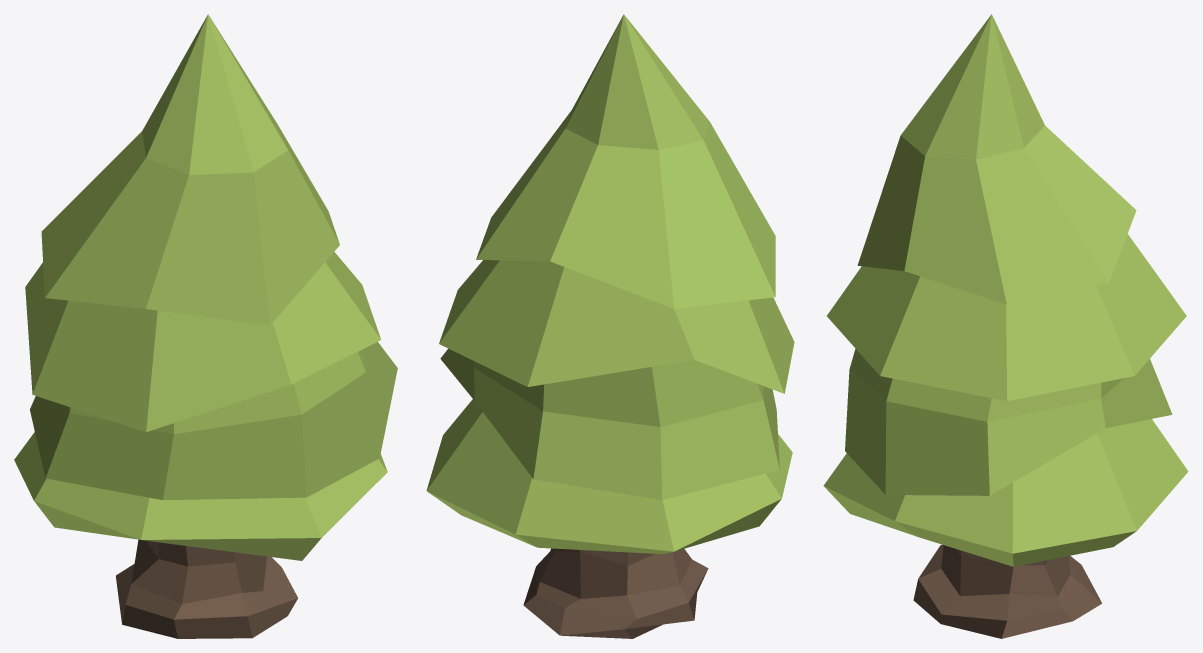
Rendered from tree_v2.glb.
The picture shows the model from 3 angles, left to right: view 1: azimuth 30°, elevation 25°; view 2: azimuth 150°, elevation 25°; view 3: azimuth 270°, elevation 25°; orthographic projection. The views are drawn at different scales.
Parts seen in each view (by area): view 1: Circle.004; view 2: Circle.004; view 3: Circle.004.
Part boxes in pixels (left/top/right/bottom): Circle.004: left=14, top=14, right=397, bottom=638; Circle.004: left=426, top=14, right=794, bottom=638; Circle.004: left=823, top=14, right=1188, bottom=638.
Size of the model in its own units: 2.34 by 3.75 by 2.1.
